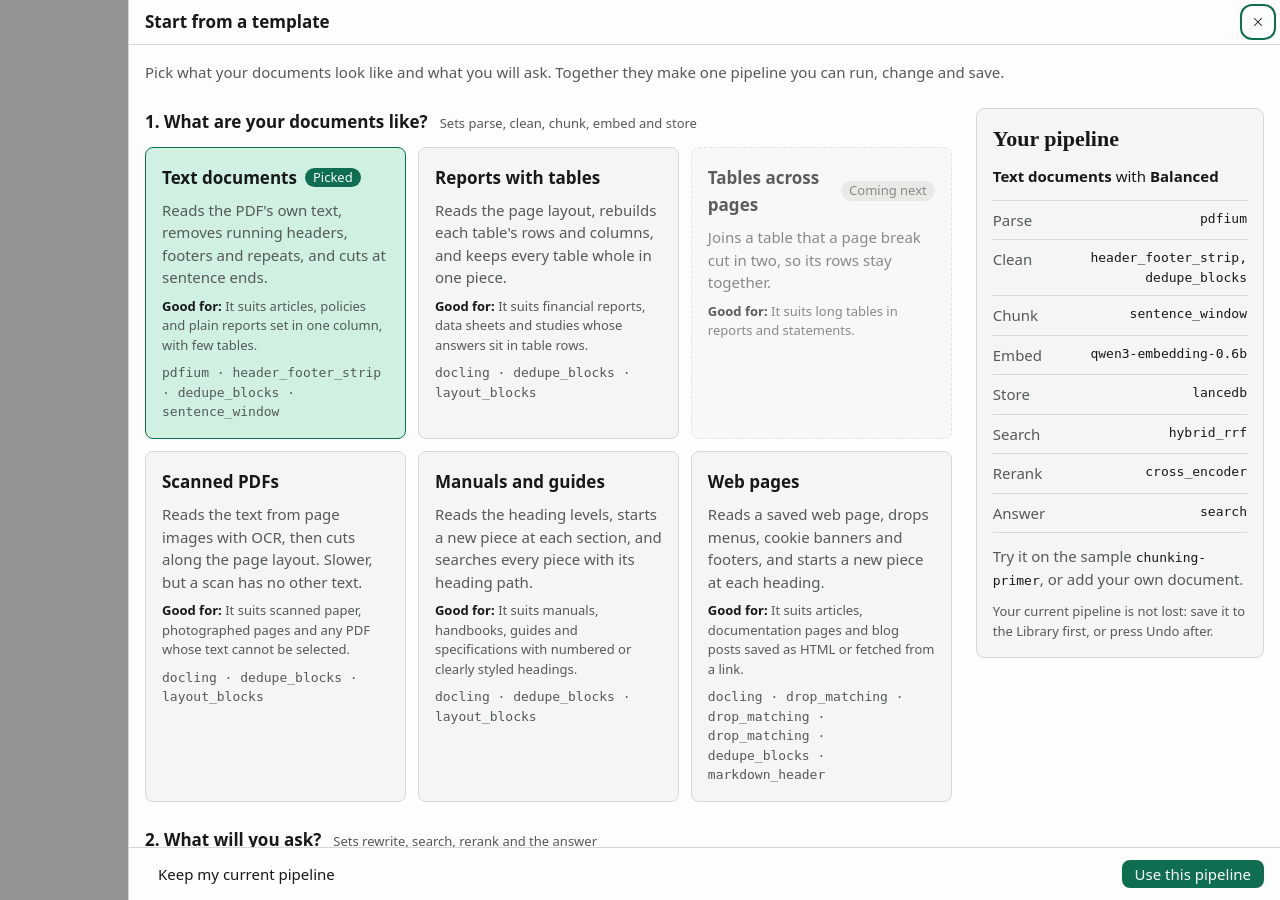
Test case: TemplatePicker › shows the Web pages card, and no sample line for it
Expected: the element "1. What are your documents like?" is shown, [145,108,952,802]
Click the button "Web pages": (821, 626) [691,451,952,802]
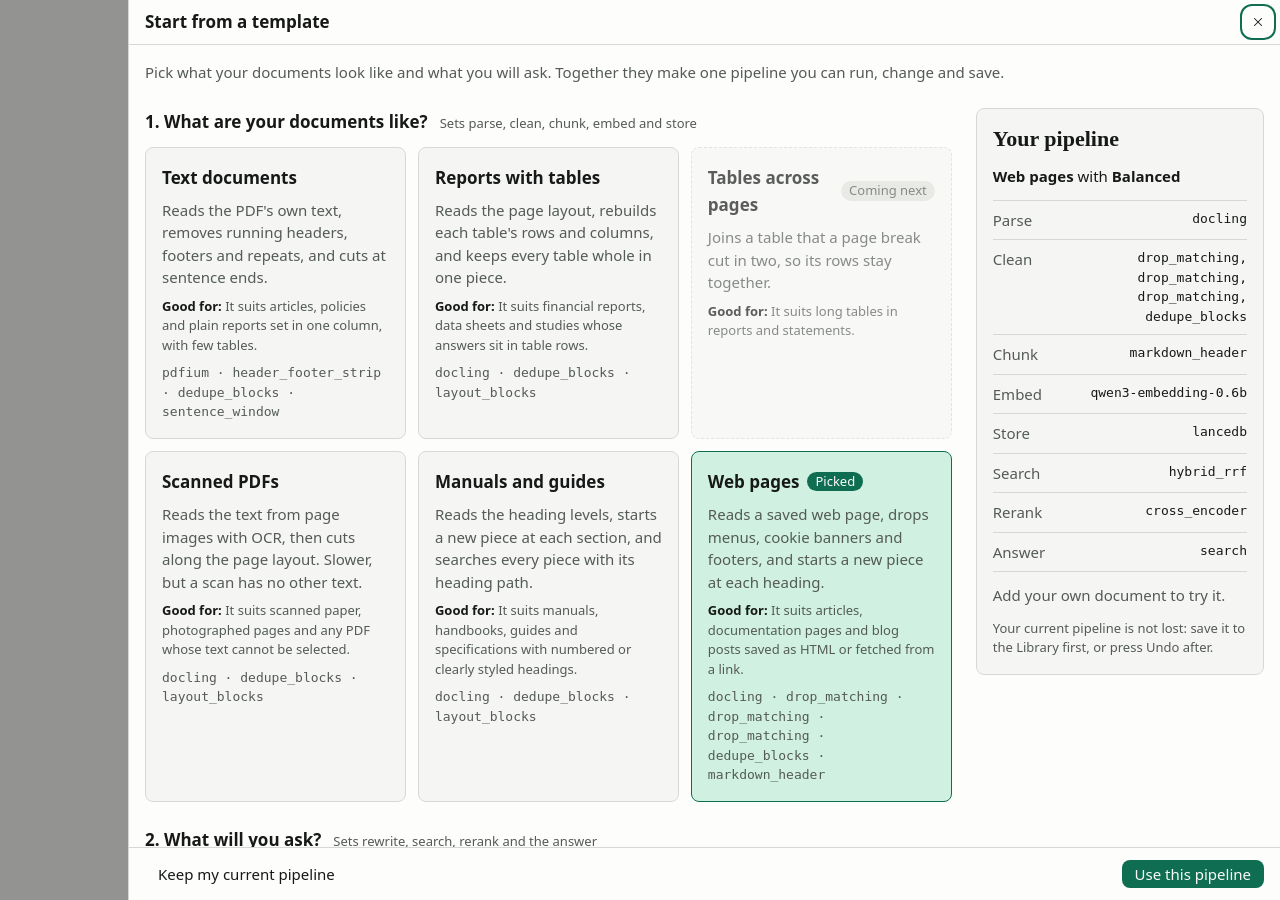
Expected: the text "markdown_header" is shown, [1130,343,1247,366]
Expected: the text "Try it on the sample" is gone
